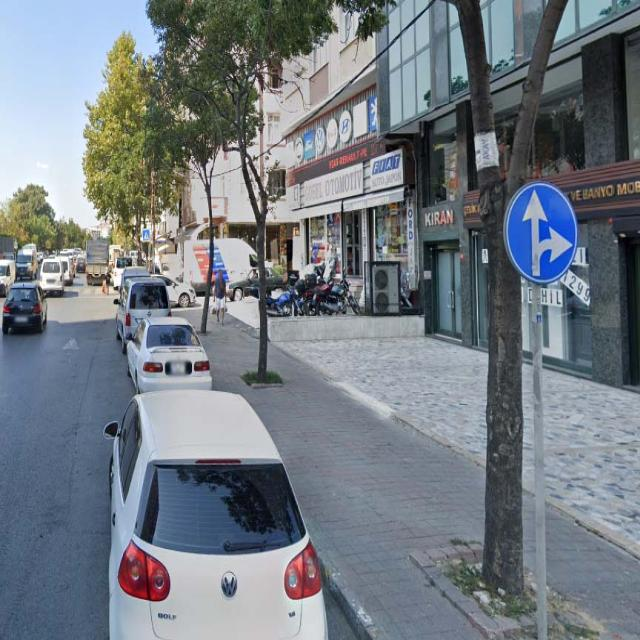ilerisag: (506, 182, 578, 284)
